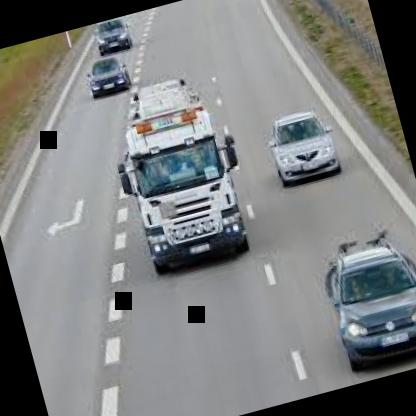car: (70, 64, 277, 310), (292, 208, 416, 385), (246, 73, 359, 220), (75, 41, 142, 112), (81, 11, 157, 65)
